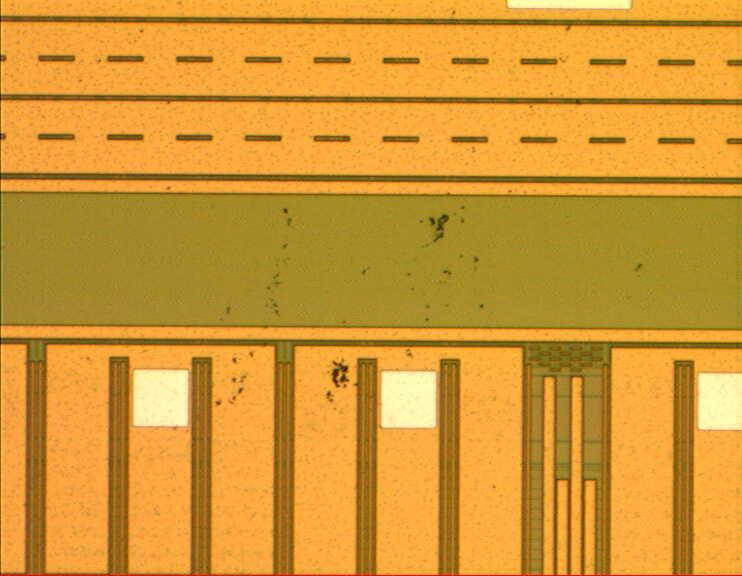PO CONTAMINATION: (158, 121, 653, 445)
